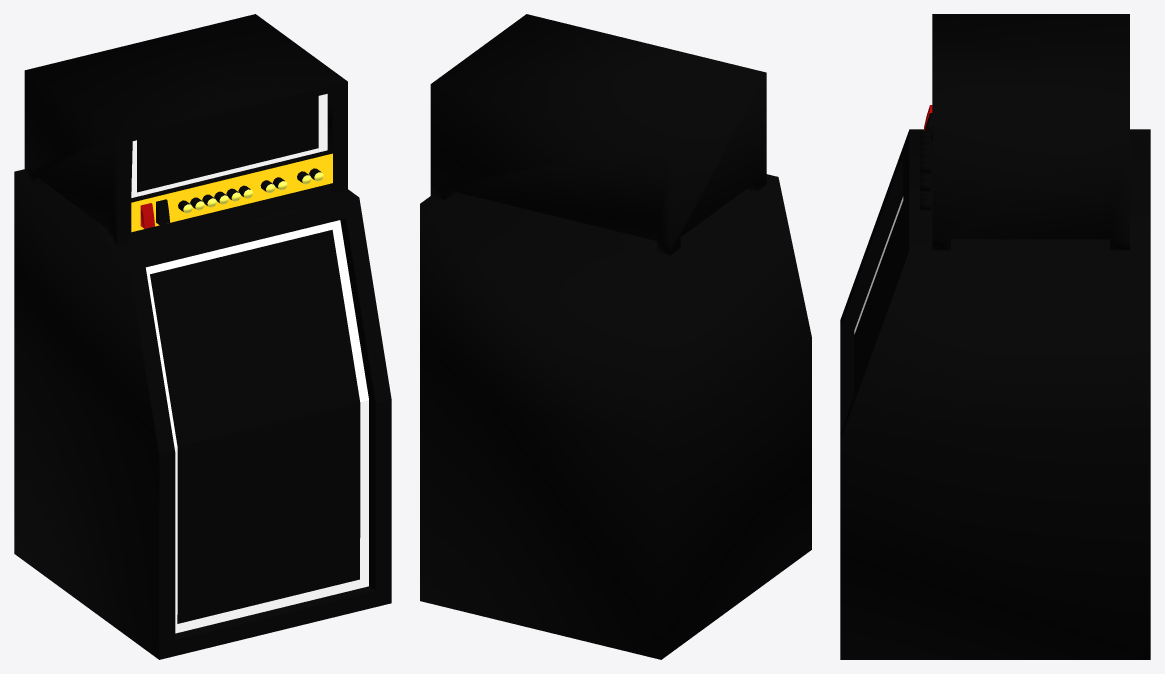
The model's file is SpeakerCabinetAmplifier.glb.
3 views of the same model, side by side, from view 1: azimuth 30°, elevation 25°; view 2: azimuth 150°, elevation 25°; view 3: azimuth 270°, elevation 25° (orthographic). The views are drawn at different scales.
Parts seen in each view (by area): view 1: SpeakerCabinetAmplifier; view 2: SpeakerCabinetAmplifier; view 3: SpeakerCabinetAmplifier.
Boxes of the visible parts, <box> form: SpeakerCabinetAmplifier: <box>14,14,391,659</box>; SpeakerCabinetAmplifier: <box>420,14,811,659</box>; SpeakerCabinetAmplifier: <box>840,14,1150,659</box>.
Bounding box in the file's own units: 0.8266 × 1.67 × 0.8933.
2 materials, 2 textured.
